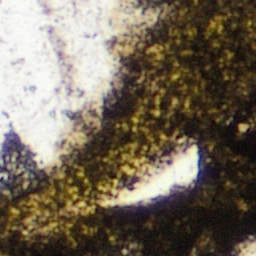cement_matrix: (0, 0, 255, 255), (98, 142, 200, 207), (70, 202, 89, 211)
gravel_crushed_stones: (0, 0, 159, 170), (99, 143, 199, 206), (237, 240, 255, 255), (71, 203, 88, 210), (0, 172, 3, 182)
